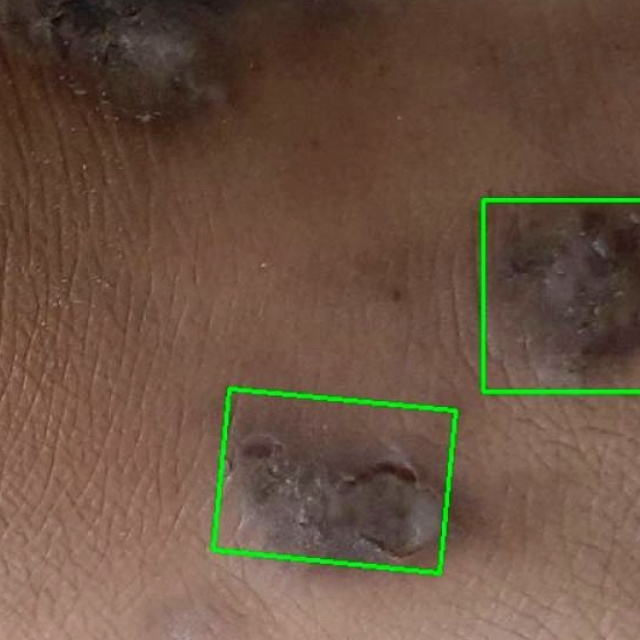Contact Dermatitis: (213, 389, 455, 573), (483, 200, 639, 391)
